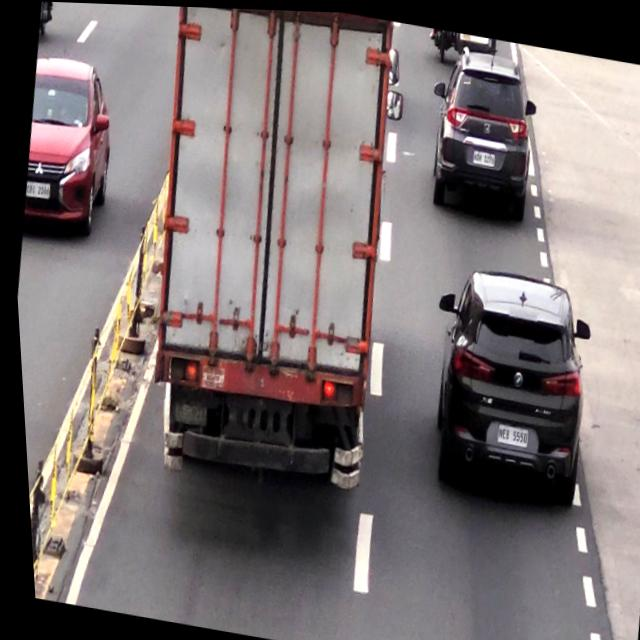Car: (418, 262, 595, 500), (421, 38, 547, 215)
License-Plate: (491, 420, 525, 446), (469, 144, 495, 168)
Truck: (120, 3, 419, 498)
